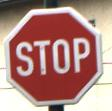Stop sign: (0, 0, 111, 110)
